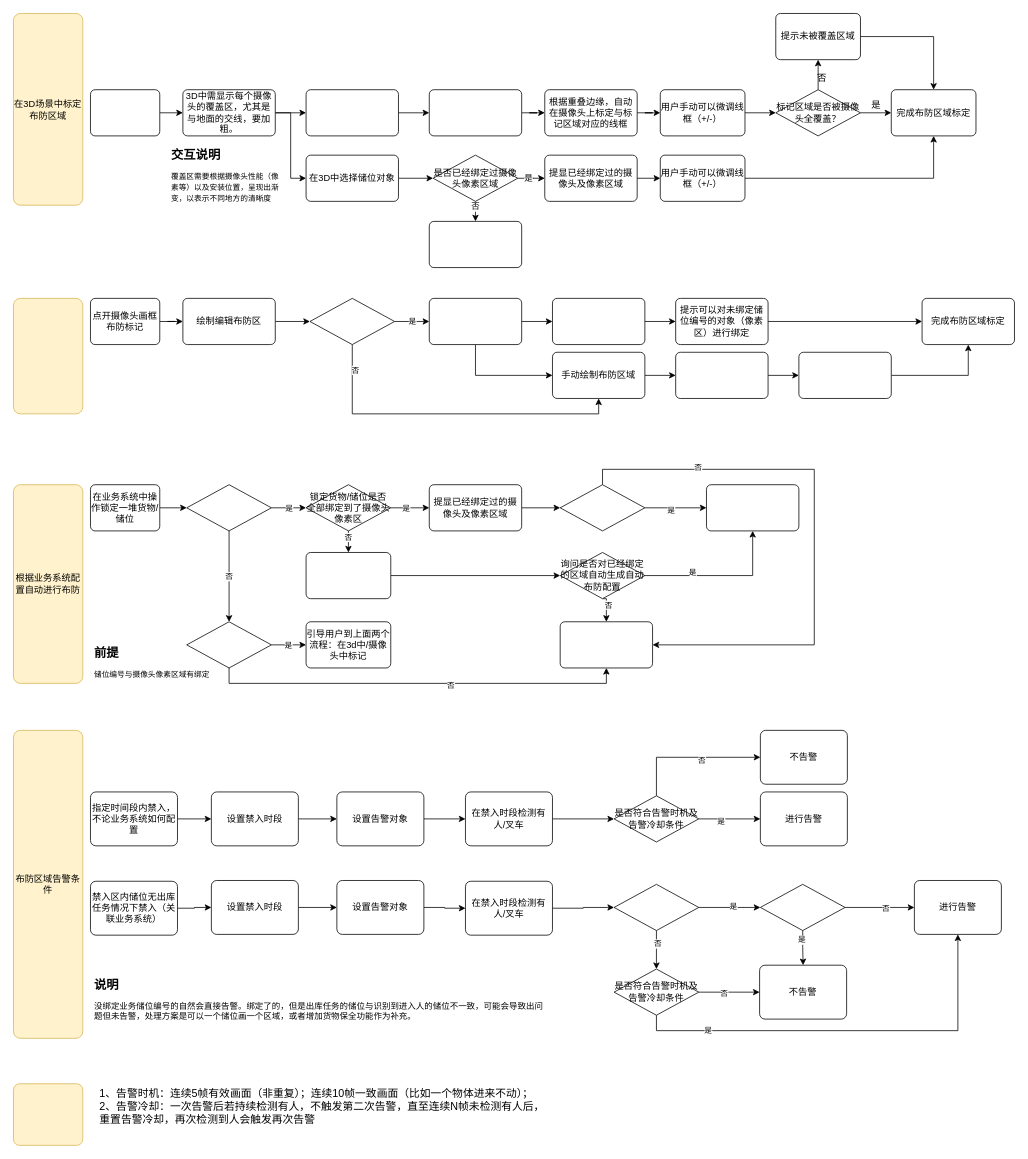
Image size: 1028x1159. Some labels were removed from this diagram. The shapes that lost their labels are listed below. From the top down, each one's box as (x1, y1, x2, y2) in pixels, then its label:
(90, 89, 160, 136): 运行态中点击标定禁入区
(305, 89, 398, 136): 在3D中绘制禁入区
(429, 89, 522, 136): 拉取显示覆盖区与标记区有重叠的摄像头画面
(429, 221, 522, 268): 提示该对象为绑定有效摄像头像素区域
(309, 298, 395, 345): 是否开启ai自动识别对象
(429, 298, 522, 345): AI自动提示画面中的对象以及其是否有绑定储区/货堆
(552, 298, 645, 345): 勾选多个对象自动生成覆盖多个对象的布防区域
(13, 298, 83, 414): 直接在摄像头画面上标注布防区域
(675, 352, 768, 398): 提示与标定区有交叉的储位/货堆
(798, 352, 891, 398): 对于有交叉但不完全的储位，提示可以进行微调自动补充
(186, 484, 271, 531): 锁定货物/储位是否有绑定摄像头像素区
(559, 484, 645, 531): 询问是否自动生成自动布防配置
(706, 484, 799, 531): 结束流程并自动生成布防配置（每堆货物独立生成布防区）
(305, 552, 391, 599): 提显已经绑定过的储位及其对应摄像头像素区。提示未绑定过的储位
(186, 621, 271, 668): 提示是否需要做布防
(559, 621, 653, 668): 结束流程
(613, 884, 699, 931): 判断禁入区中是否有像素块已经绑定储位/货堆
(760, 884, 845, 931): 查询业务系统，已绑定的储位/货堆当前是否有出库操作
(13, 1083, 83, 1145): 告警去抖策略
